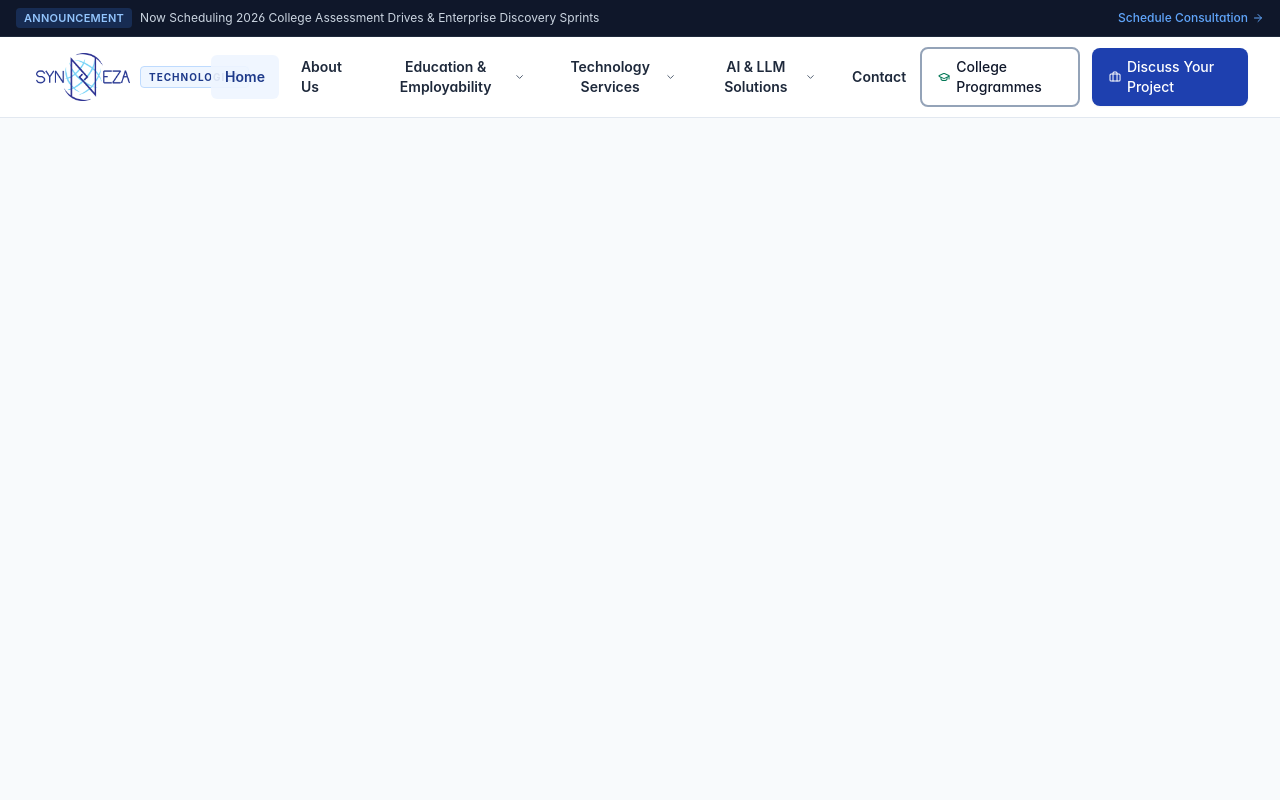
Scenario: Core Layout & Navigation Components › opens and closes navigation dropdowns on user interaction
# Click to open dropdown
Click the button "Education & Employability" at (454, 77), box x1=370 y1=49 x2=539 y2=105
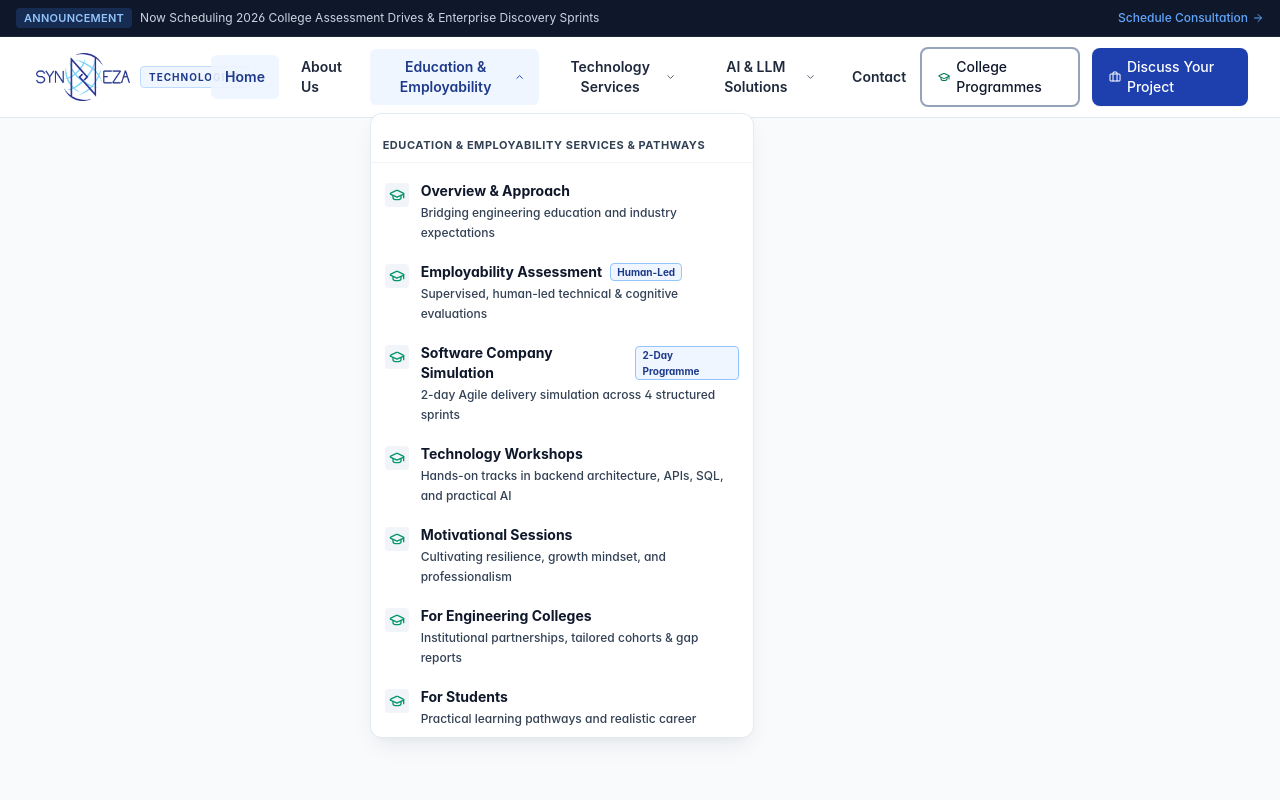
Result: the menu is shown at x1=370 y1=113 x2=754 y2=738
Result: the menu item "Employability Assessment" is shown at x1=385 y1=263 x2=682 y2=320
# Click again to close dropdown
Click the button "Education & Employability" at (454, 77), box x1=370 y1=49 x2=539 y2=105
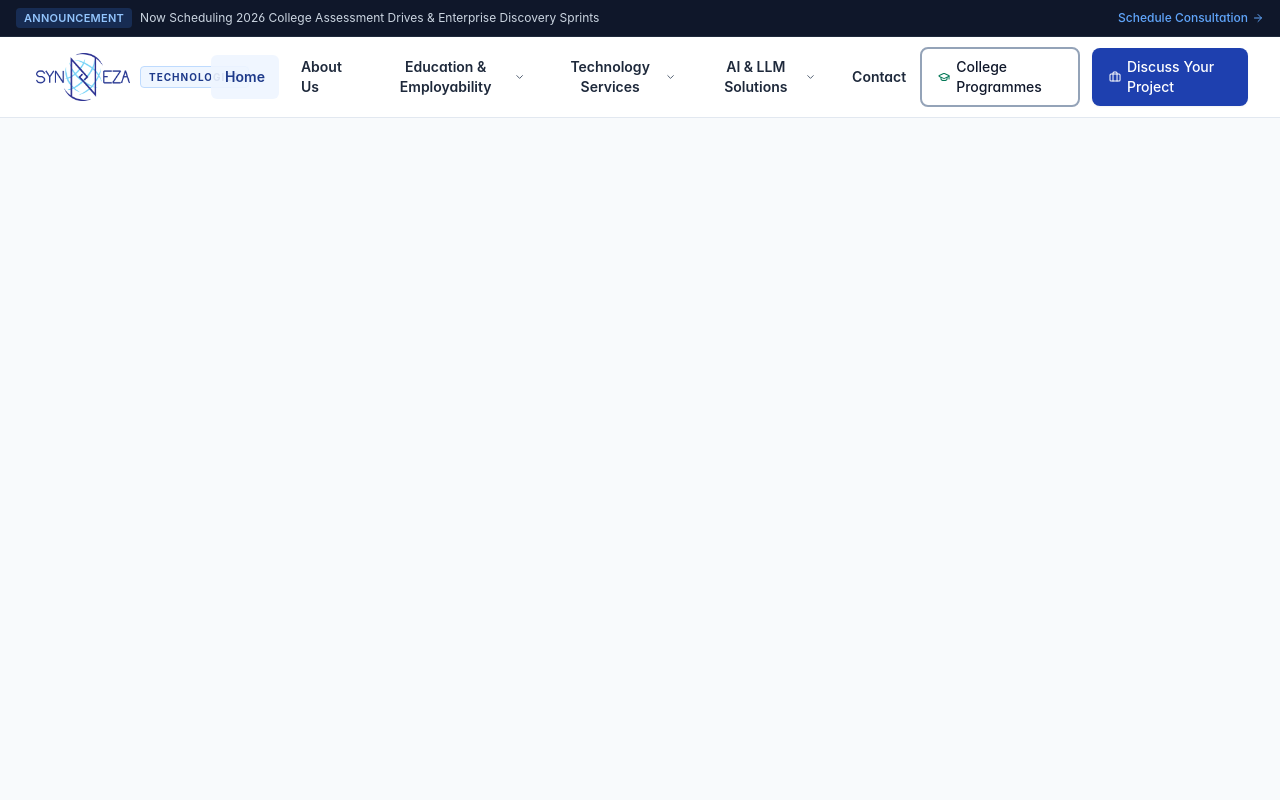
Result: the menu is gone
